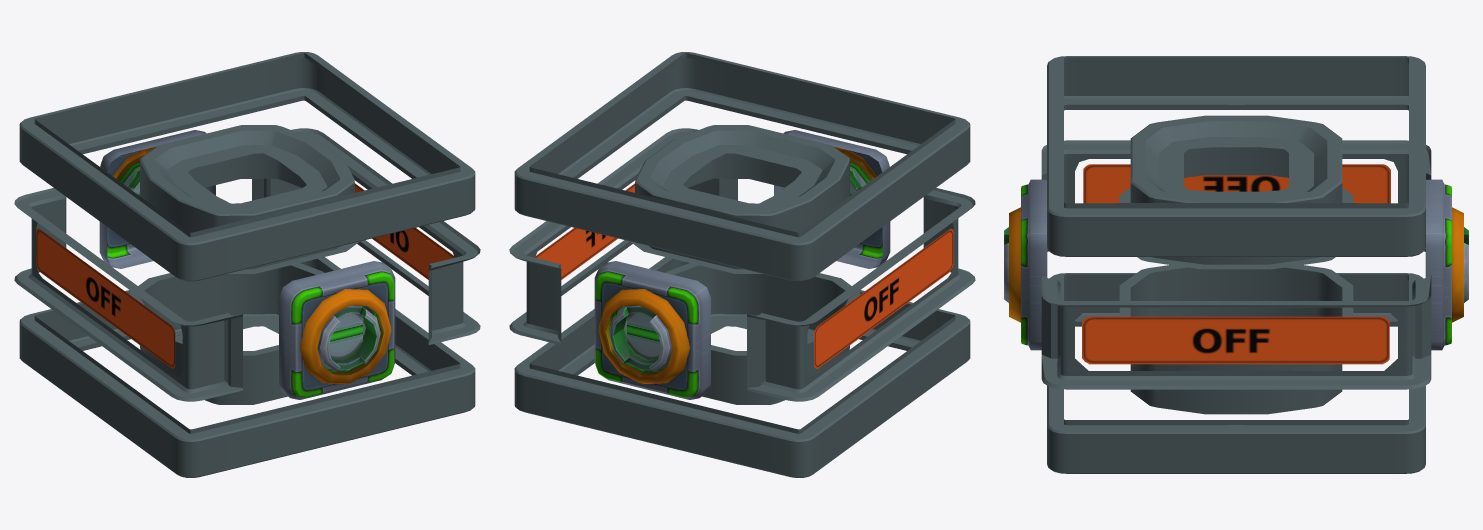
Rendered from fant_autocrafter_2.obj.
3 renders of one model, left to right at view 1: azimuth 30°, elevation 25°; view 2: azimuth 150°, elevation 25°; view 3: azimuth 270°, elevation 25°, orthographic. The views are drawn at different scales.
Visible parts, largest first — view 1: Fant_Autocrafter_Cube.001; view 2: Fant_Autocrafter_Cube.001; view 3: Fant_Autocrafter_Cube.001.
Part boxes in pixels (x1,y1,x2,y2): Fant_Autocrafter_Cube.001: (14,52,480,477); Fant_Autocrafter_Cube.001: (509,52,975,477); Fant_Autocrafter_Cube.001: (1004,56,1468,473).
Size of the model in its own units: 5 by 5 by 5.96.
